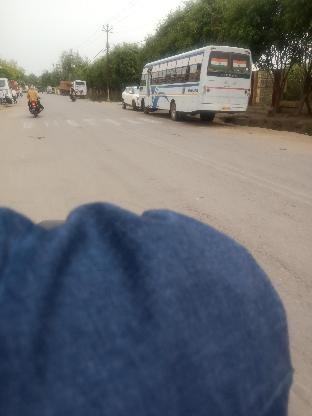bus: (142, 45, 254, 121)
